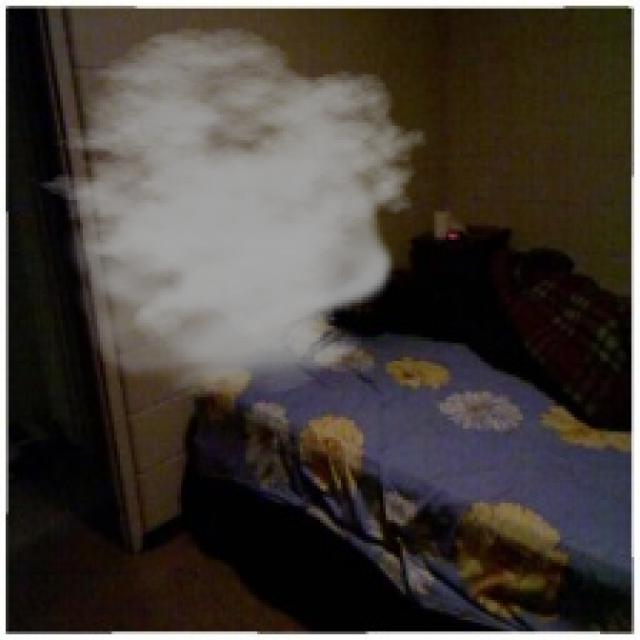smoke: (20, 26, 429, 397)
